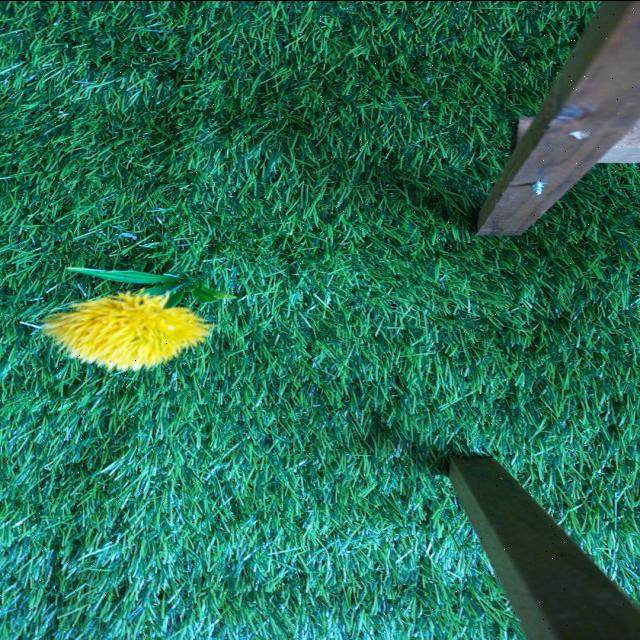base: (67, 268, 228, 304)
flower: (42, 294, 209, 370)
